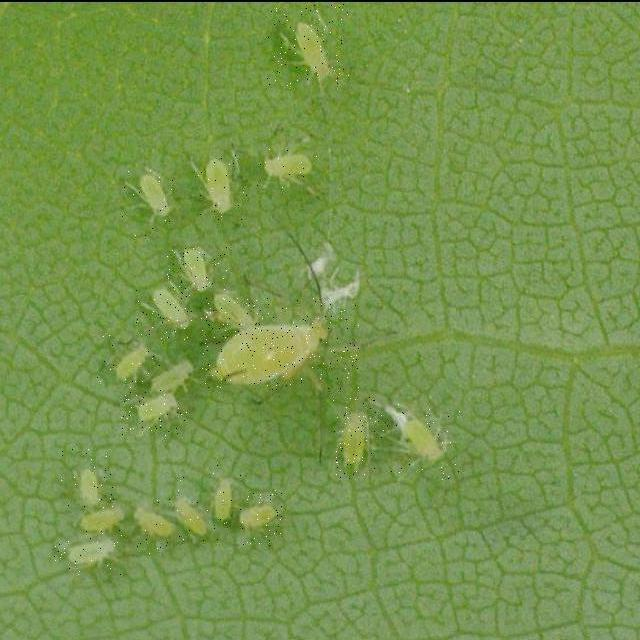aphid: (201, 296, 359, 388), (267, 2, 349, 86), (376, 397, 461, 478), (122, 160, 174, 238), (195, 150, 248, 220), (333, 394, 377, 478), (249, 142, 327, 186), (121, 385, 187, 436), (96, 330, 162, 381), (172, 474, 222, 540), (61, 446, 115, 507), (54, 527, 124, 573), (208, 462, 247, 542), (135, 285, 192, 338), (232, 487, 282, 544), (165, 244, 228, 288), (132, 493, 170, 554)
